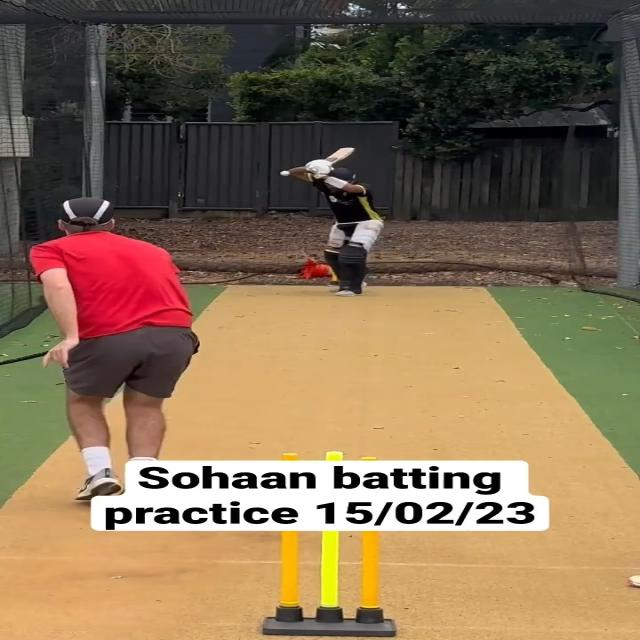ball: (280, 170, 290, 177)
stump: (264, 531, 396, 636)
